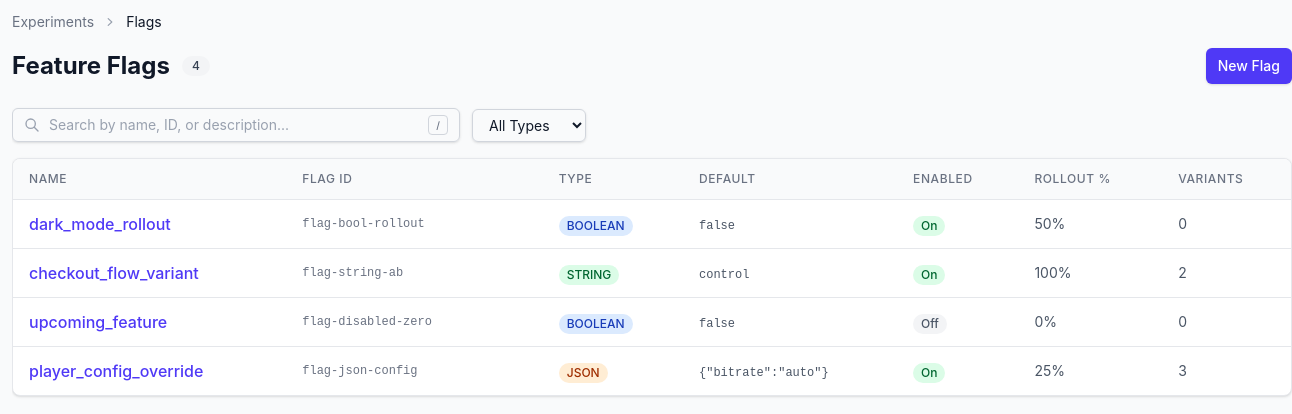
Test case: Search Clear Buttons Focus Restoration › FlagListPage restores focus to search input when clear search is clicked
This screenshot has width=1292, height=414.
Type "flag-query" into the field with placeholder "Search by name, ID, or description...".
click(236, 125); type("flag-query")  # box x1=12 y1=108 x2=460 y2=142
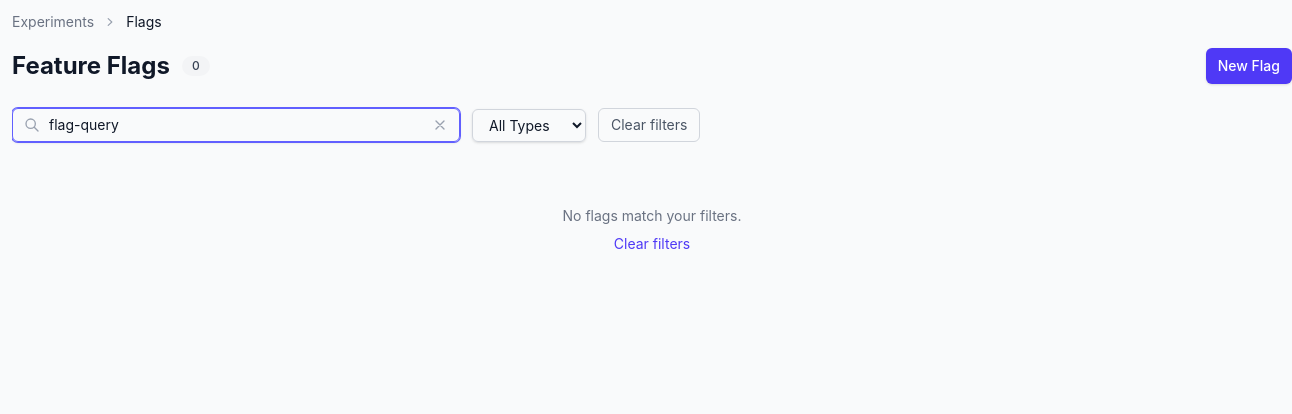
Click the button named "Clear search".
click(440, 125)  # box x1=432 y1=117 x2=448 y2=133
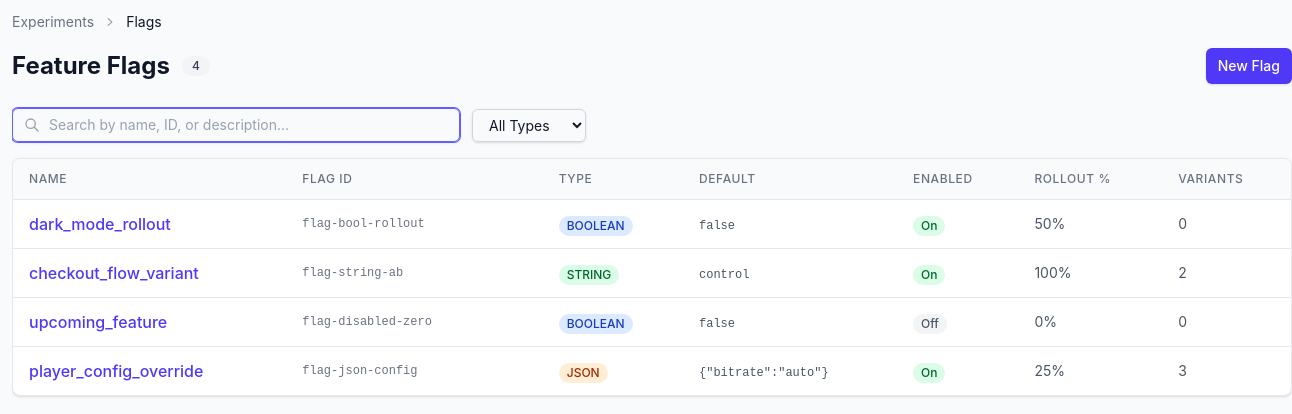
Check: the field with placeholder "Search by name, ID, or description..." is empty, box x1=12 y1=108 x2=460 y2=142
